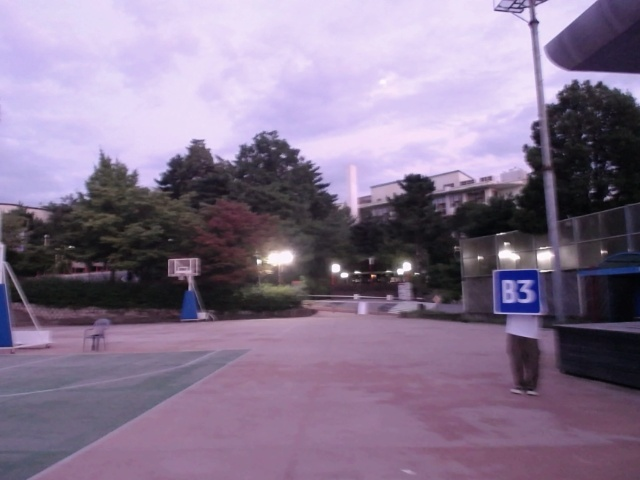delivery_b3: (493, 269, 542, 315)
